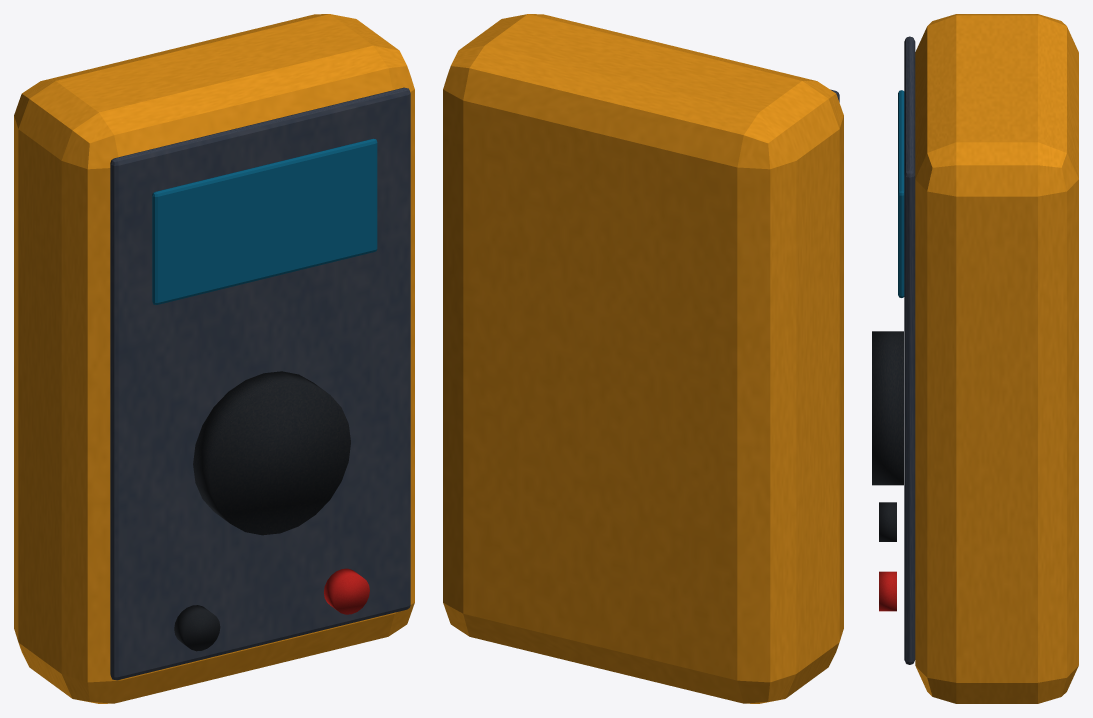
The model's file is Multimeter.obj.
3 renders of one model, left to right at view 1: azimuth 30°, elevation 25°; view 2: azimuth 150°, elevation 25°; view 3: azimuth 270°, elevation 25°, orthographic. The views are drawn at different scales.
Visible parts, largest first — view 1: Meter_Face, Meter_Body, Display, Selector, Probe_Port, Probe_Port.001; view 2: Meter_Body; view 3: Meter_Body, Meter_Face, Selector, Display, Probe_Port.001, Probe_Port.
Boxes of the visible parts, <box> form: Meter_Face: <box>110,87,410,680</box>; Meter_Body: <box>14,14,414,703</box>; Display: <box>152,138,377,304</box>; Selector: <box>193,371,350,535</box>; Probe_Port: <box>174,605,220,651</box>; Probe_Port.001: <box>324,568,369,614</box>; Meter_Body: <box>443,14,843,703</box>; Meter_Body: <box>915,14,1078,703</box>; Meter_Face: <box>904,36,915,664</box>; Selector: <box>872,331,903,485</box>; Display: <box>898,90,904,297</box>; Probe_Port.001: <box>879,571,896,611</box>; Probe_Port: <box>879,502,896,541</box>.
Bounding box in the file's own units: 0.42 × 0.68 × 0.2275.
